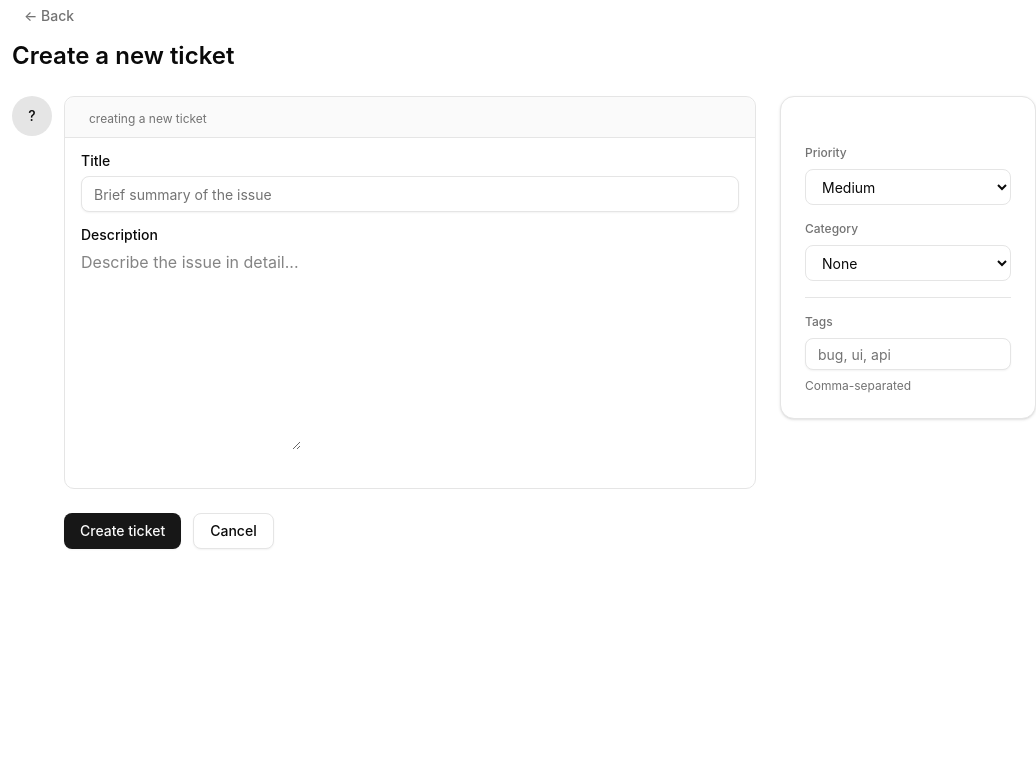
Test: New Ticket page › shows error message on submission failure
This screenshot has width=1036, height=768.
Type "Bad ticket" into the field labelled "Title" at (410, 194), box [81, 176, 739, 212]
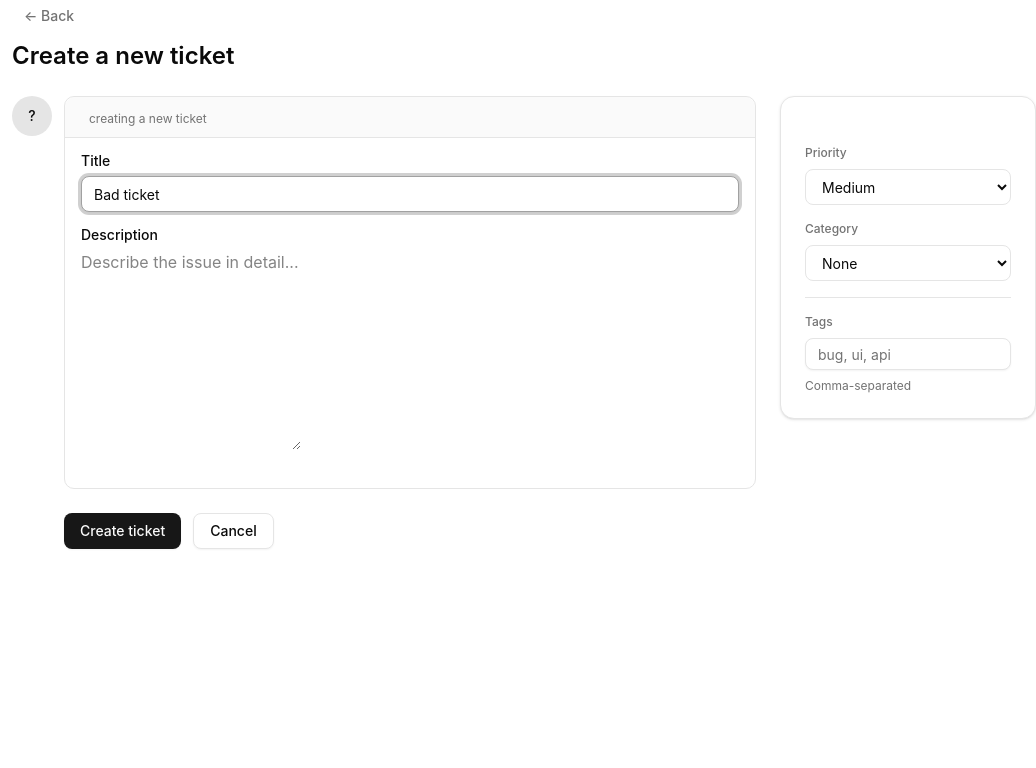
Type "Will fail" into the text box named "rich-text-editor" at (191, 350), box [81, 250, 301, 450]
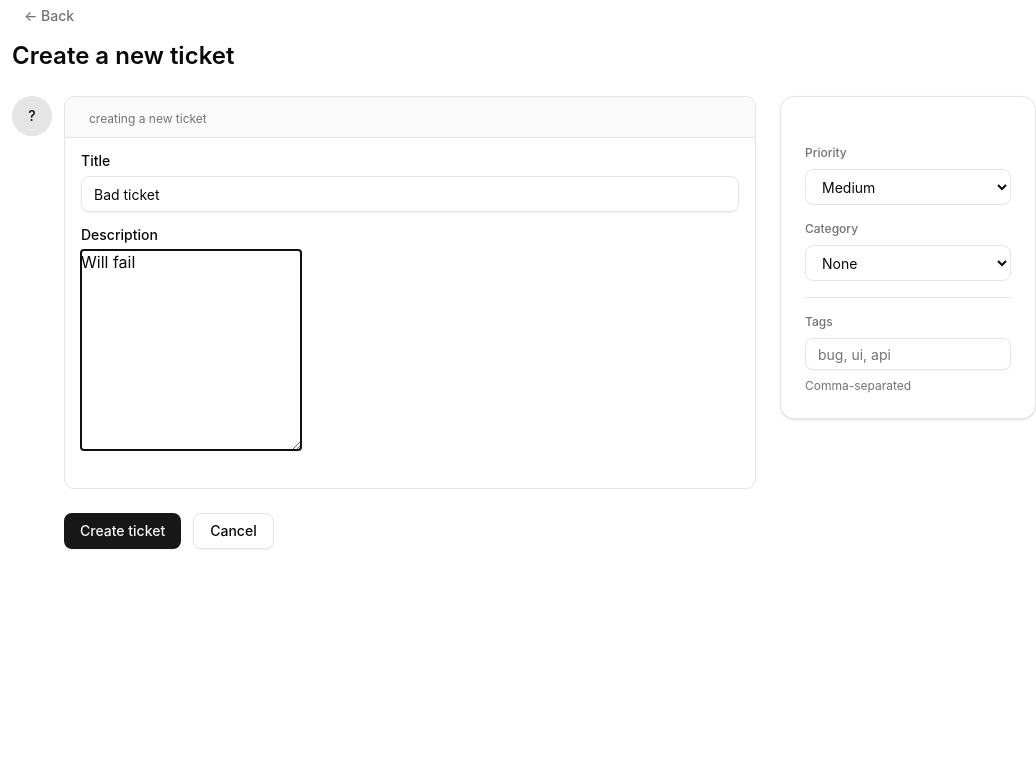
Click the button "Create ticket" at (123, 531), box [64, 513, 181, 549]
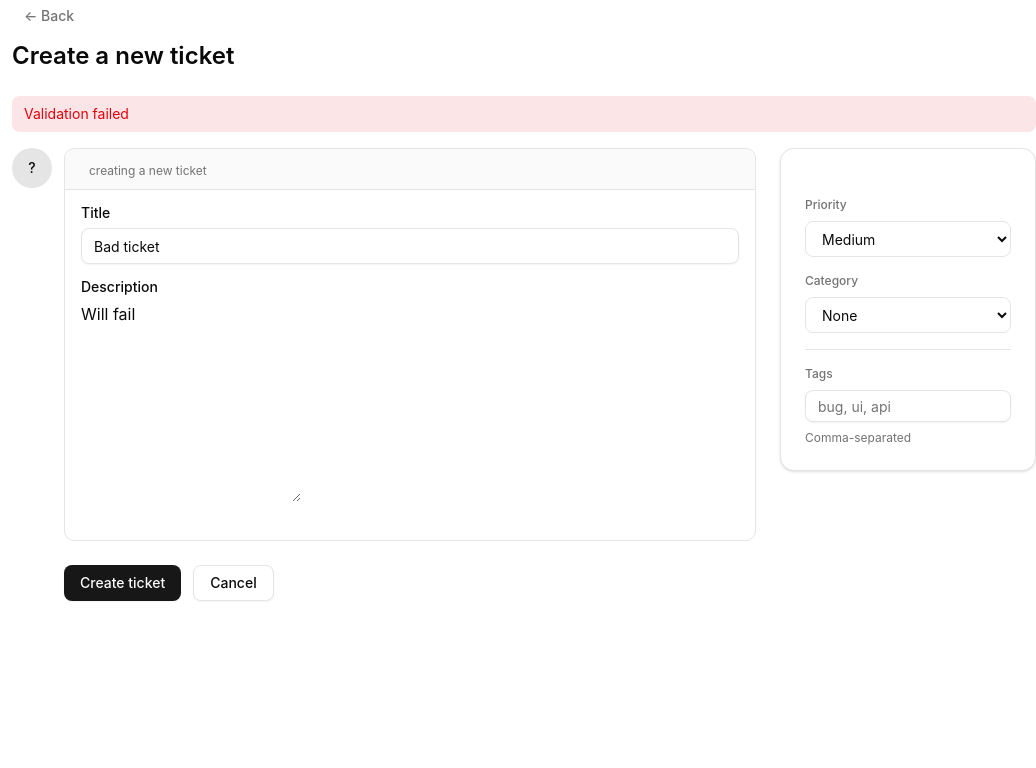
Expected: the text "Validation failed" is shown, [12, 96, 1035, 132]
